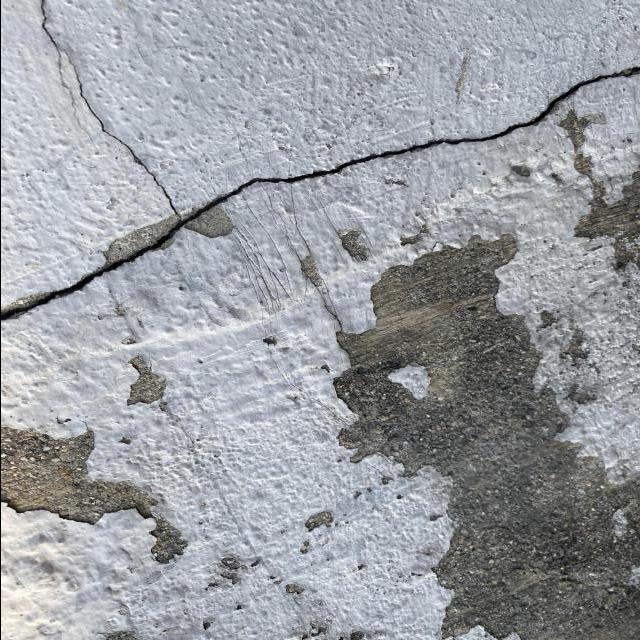SurfaceCrack: (0, 36, 639, 357)
